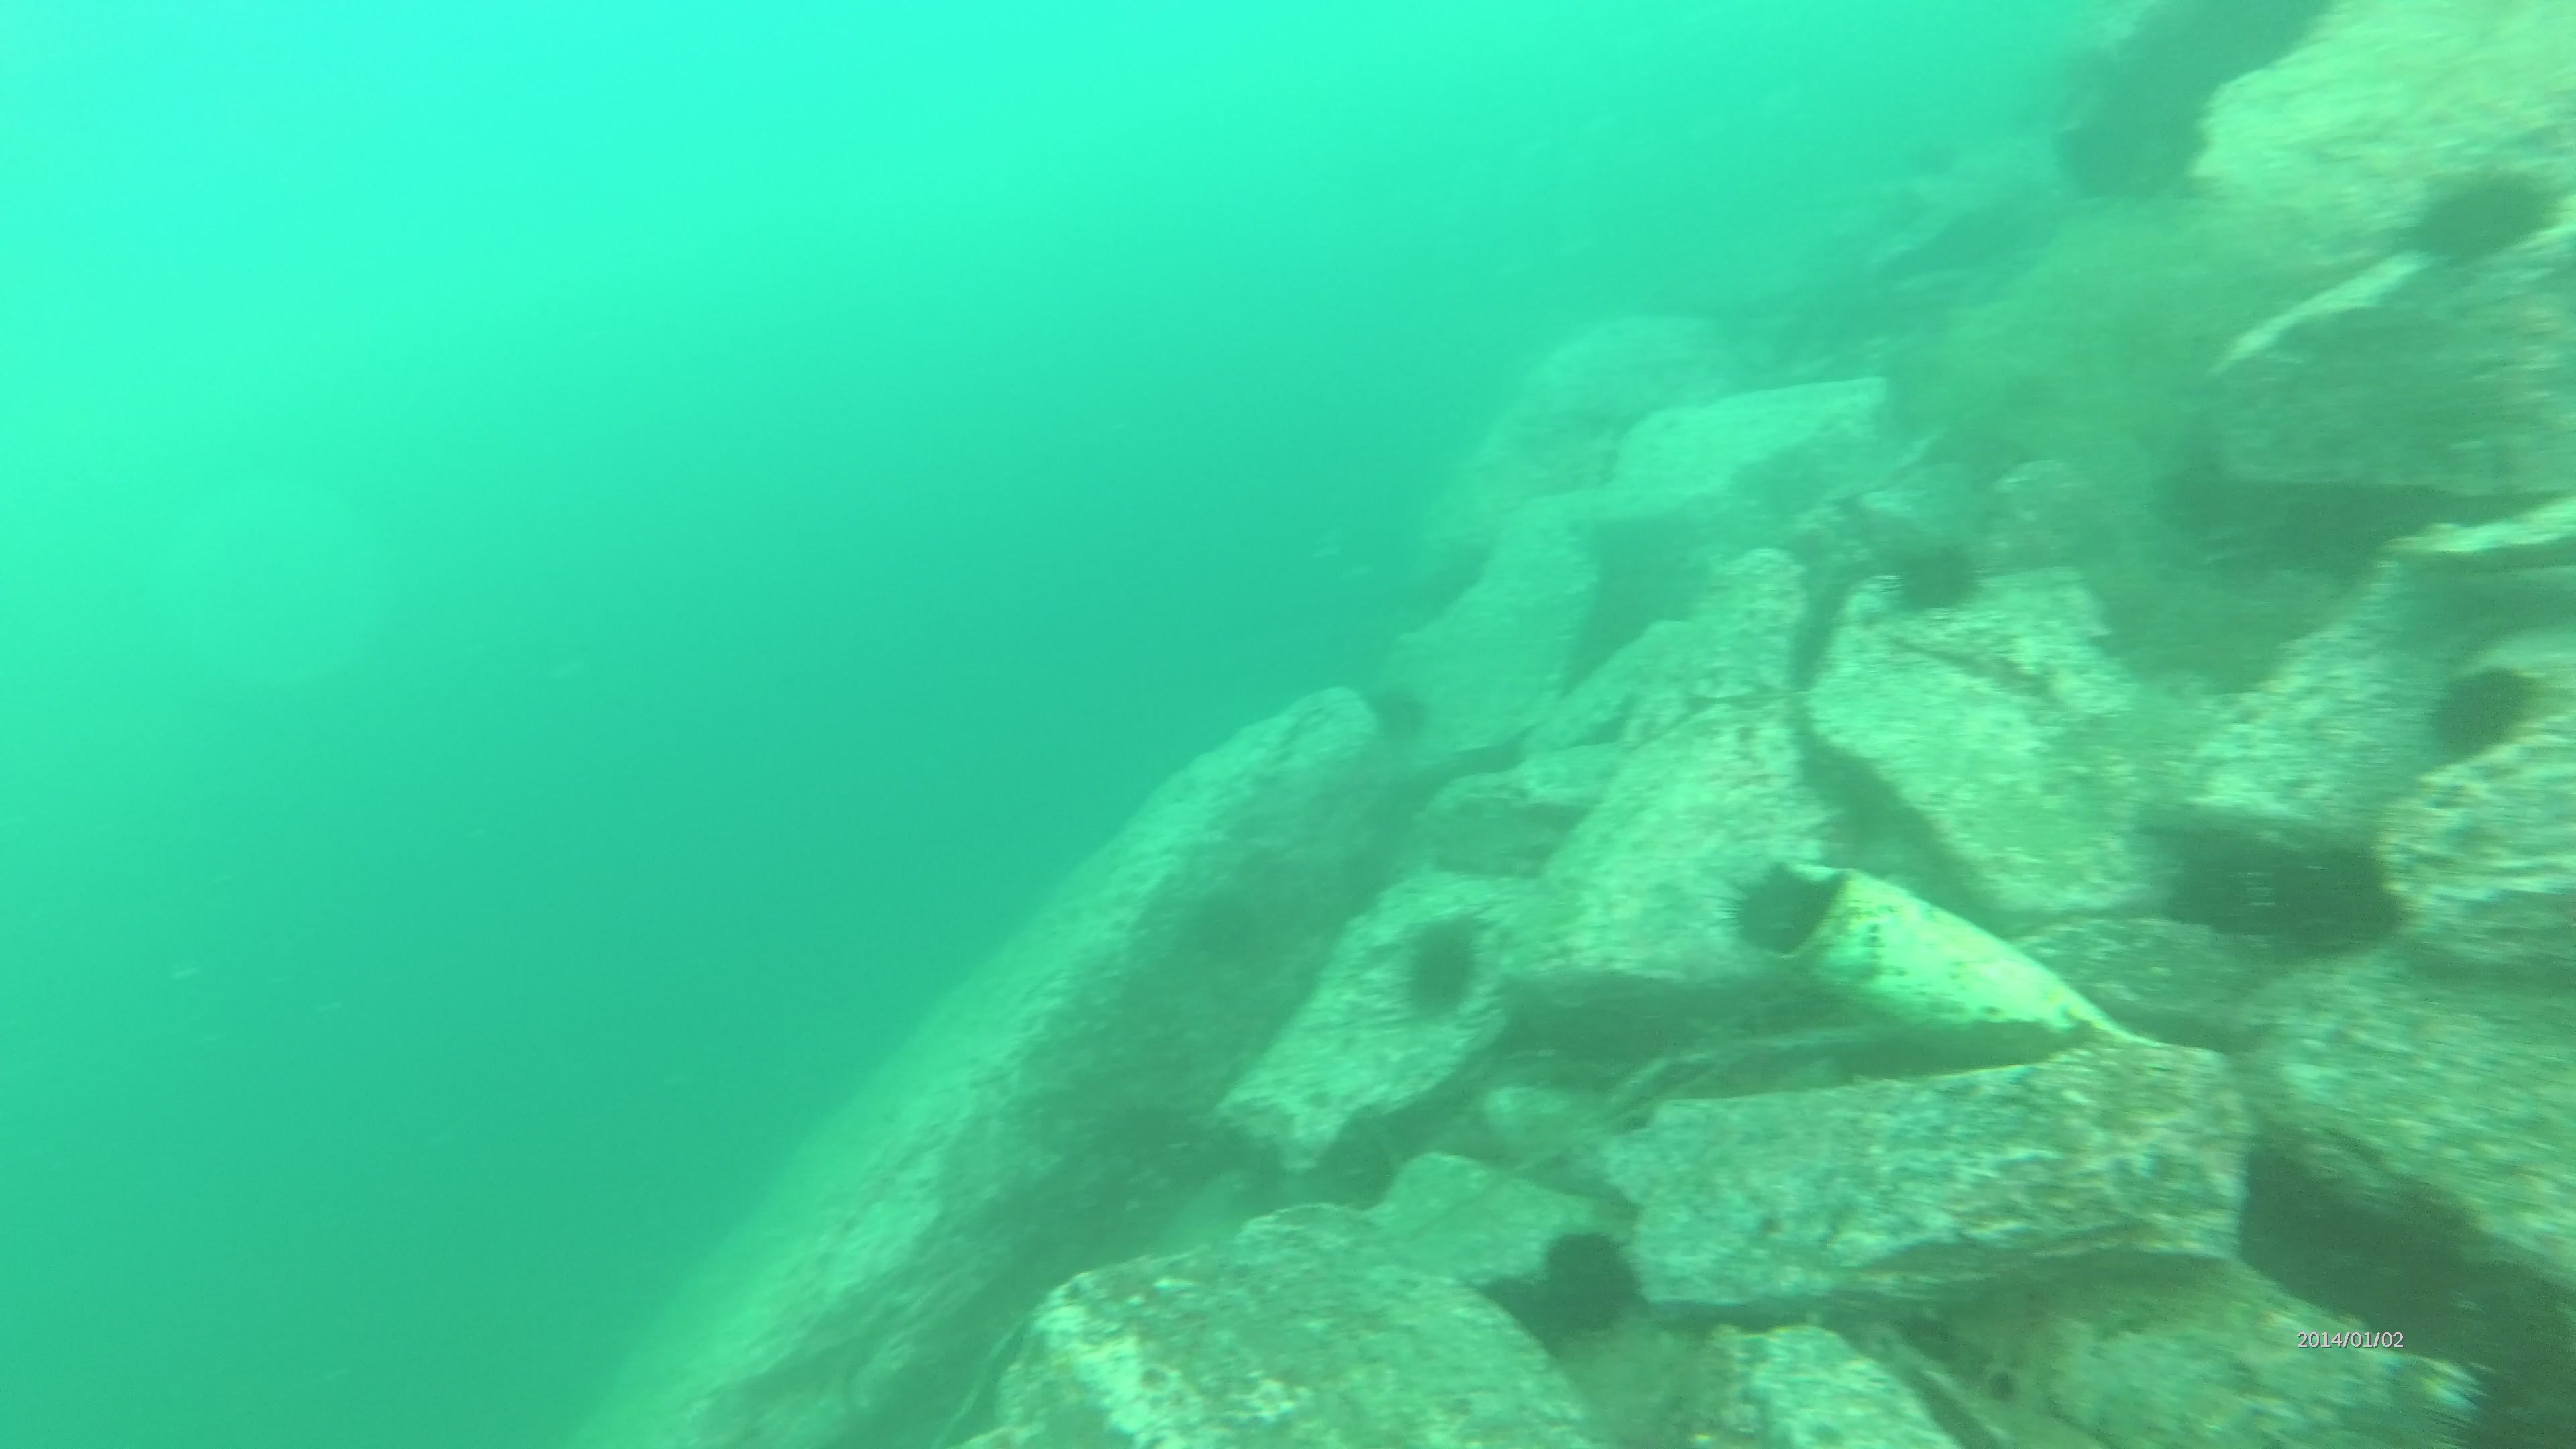echinus: (2404, 172, 2551, 272), (1536, 1219, 1651, 1341), (2429, 660, 2546, 761), (1714, 863, 1836, 952), (1881, 533, 1982, 614), (1407, 927, 1484, 1023), (1182, 893, 1261, 973), (1357, 679, 1428, 748)
